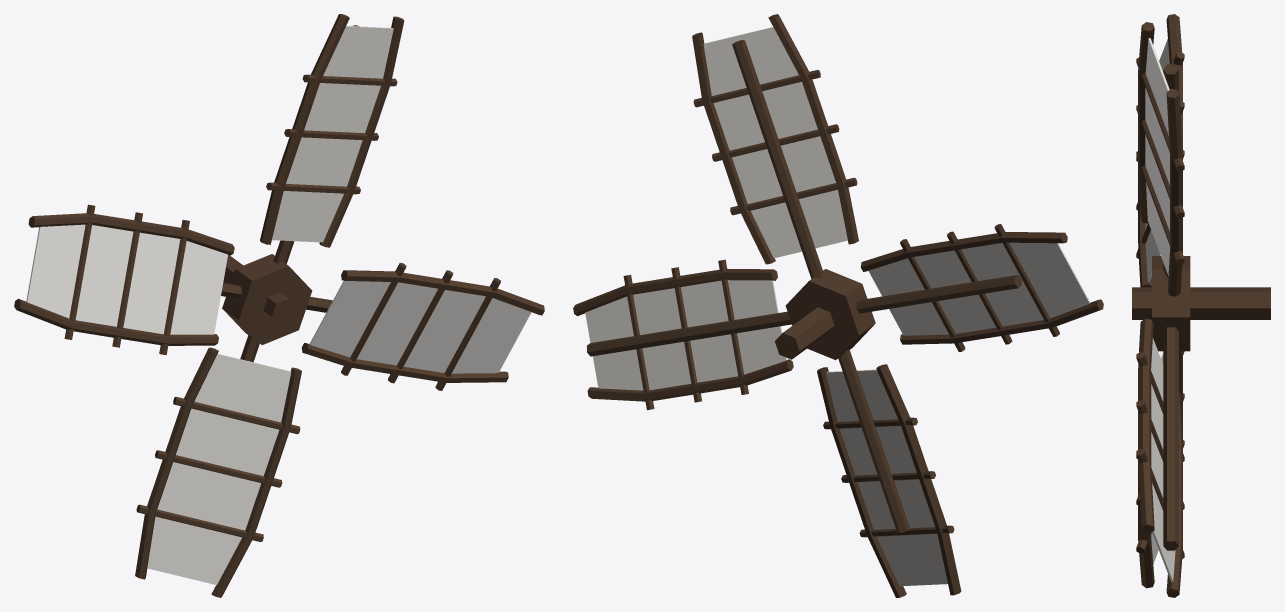
The model's file is House_4_top.fbx.
The picture shows the model from 3 angles, left to right: view 1: azimuth 30°, elevation 25°; view 2: azimuth 150°, elevation 25°; view 3: azimuth 270°, elevation 25°; orthographic projection. The views are drawn at different scales.
Parts seen in each view (by area): view 1: House_4_top; view 2: House_4_top; view 3: House_4_top.
Boxes of the visible parts, box(x1,y1,x2,y2) form: House_4_top: box(14, 14, 544, 597); House_4_top: box(573, 14, 1103, 597); House_4_top: box(1132, 14, 1270, 597).
Bounding box in the file's own units: 502 × 502 × 100.
